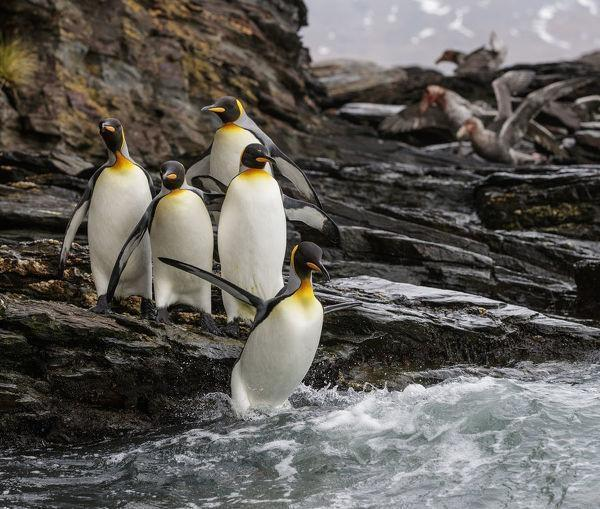Penguin: (159, 241, 327, 412), (218, 143, 339, 326), (105, 161, 217, 333), (58, 117, 152, 317), (188, 96, 321, 206)
